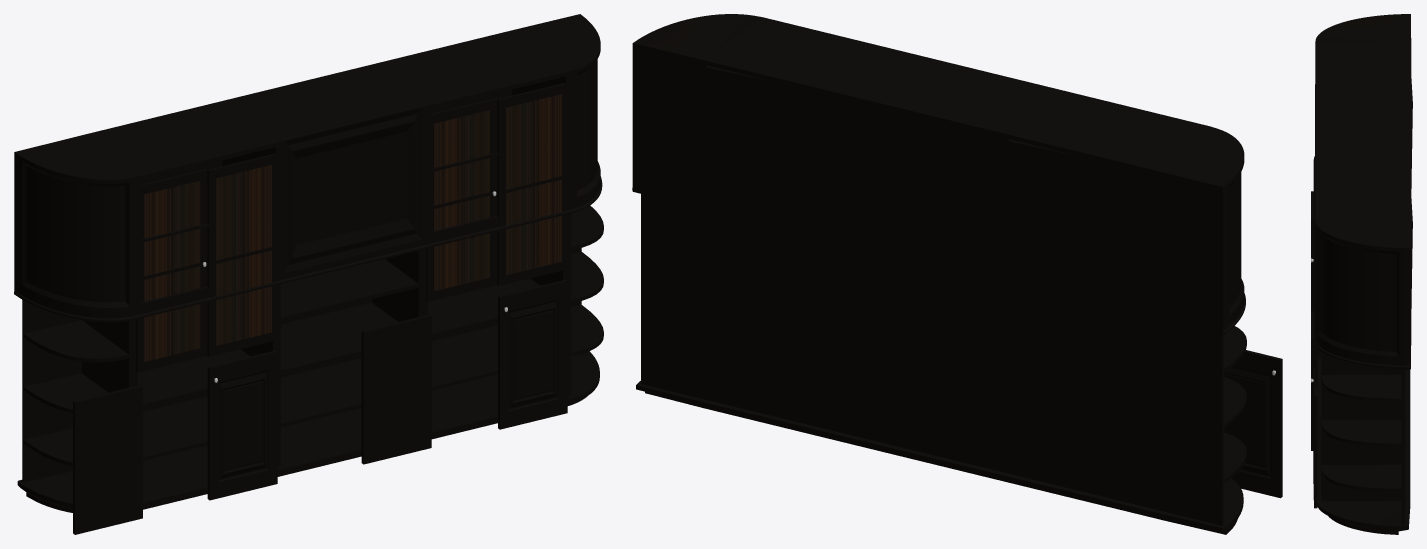
File: шкаф гл-зал.FBX
3 views of the same model, side by side, from view 1: azimuth 30°, elevation 25°; view 2: azimuth 150°, elevation 25°; view 3: azimuth 270°, elevation 25° (orthographic). The views are drawn at different scales.
Parts seen in each view (by area): view 1: Plane045, Object137, Object135, Object136, Object134, Object139, Object138, Object140, Object133; view 2: Plane045, Object133; view 3: Plane045, Object140, Object139, Object133, Object137.
Boxes of the visible parts, x1,y1,x2,y2 form: Plane045: (14,14,603,512); Object137: (497,83,568,285); Object135: (207,153,278,356); Object136: (426,98,497,301); Object134: (136,169,207,372); Object139: (361,314,431,464); Object138: (207,350,277,500); Object140: (498,279,567,429); Object133: (73,385,142,534); Plane045: (632,14,1246,534); Object133: (1223,350,1282,498); Plane045: (1313,14,1412,534); Object140: (1311,368,1317,508); Object139: (1311,311,1314,450); Object133: (1311,191,1313,310); Object137: (1315,204,1317,387).
Size of the model in its own units: 3669 by 2102 by 671.
